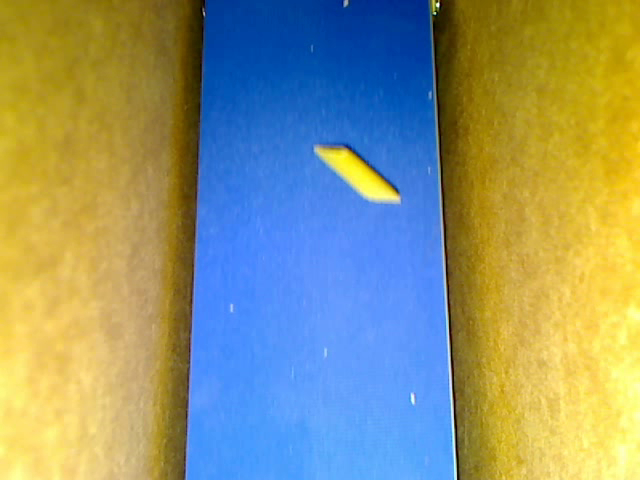penne: (313, 146, 401, 204)
